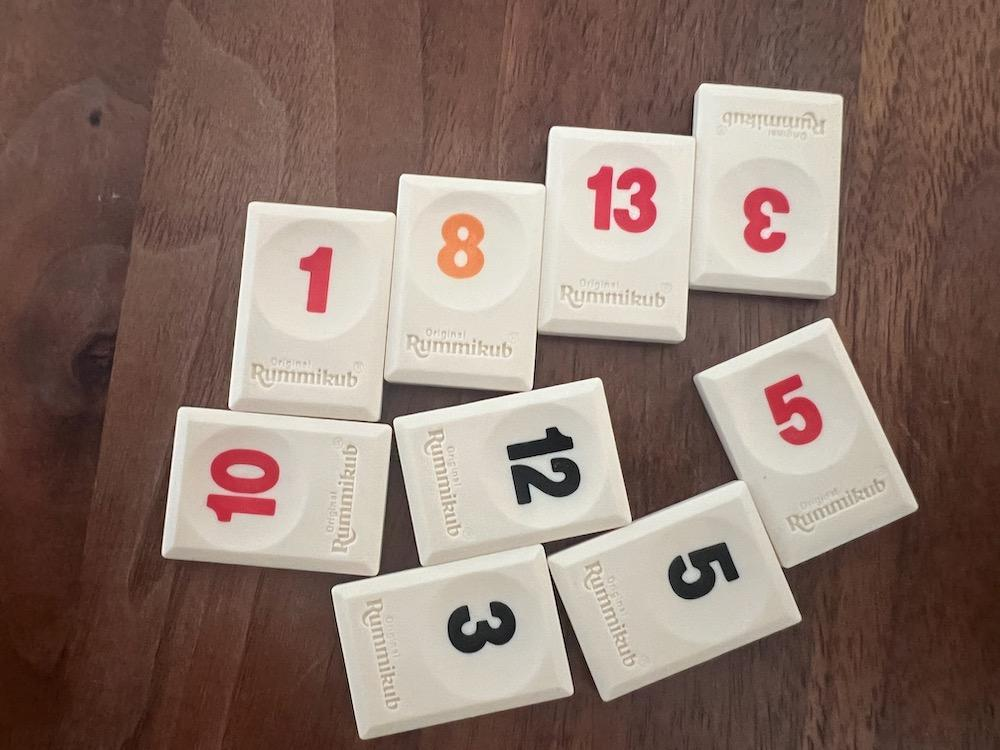black_12: (395, 379, 631, 566)
black_3: (332, 545, 572, 738)
black_5: (549, 480, 801, 701)
orange_8: (385, 174, 545, 391)
red_1: (229, 203, 396, 420)
red_10: (162, 408, 391, 576)
red_13: (539, 127, 695, 342)
red_3: (689, 84, 842, 299)
red_5: (695, 318, 916, 566)
